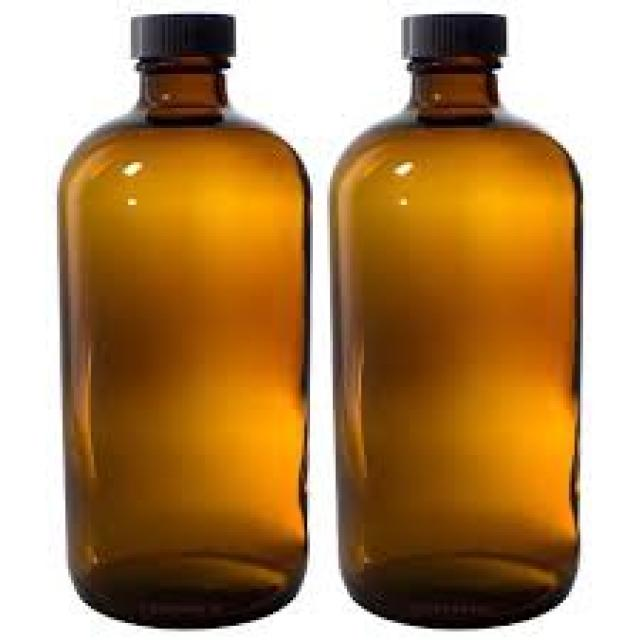glass: (327, 54, 580, 626), (54, 51, 307, 623)
plastic: (125, 11, 233, 54), (396, 9, 504, 51)
